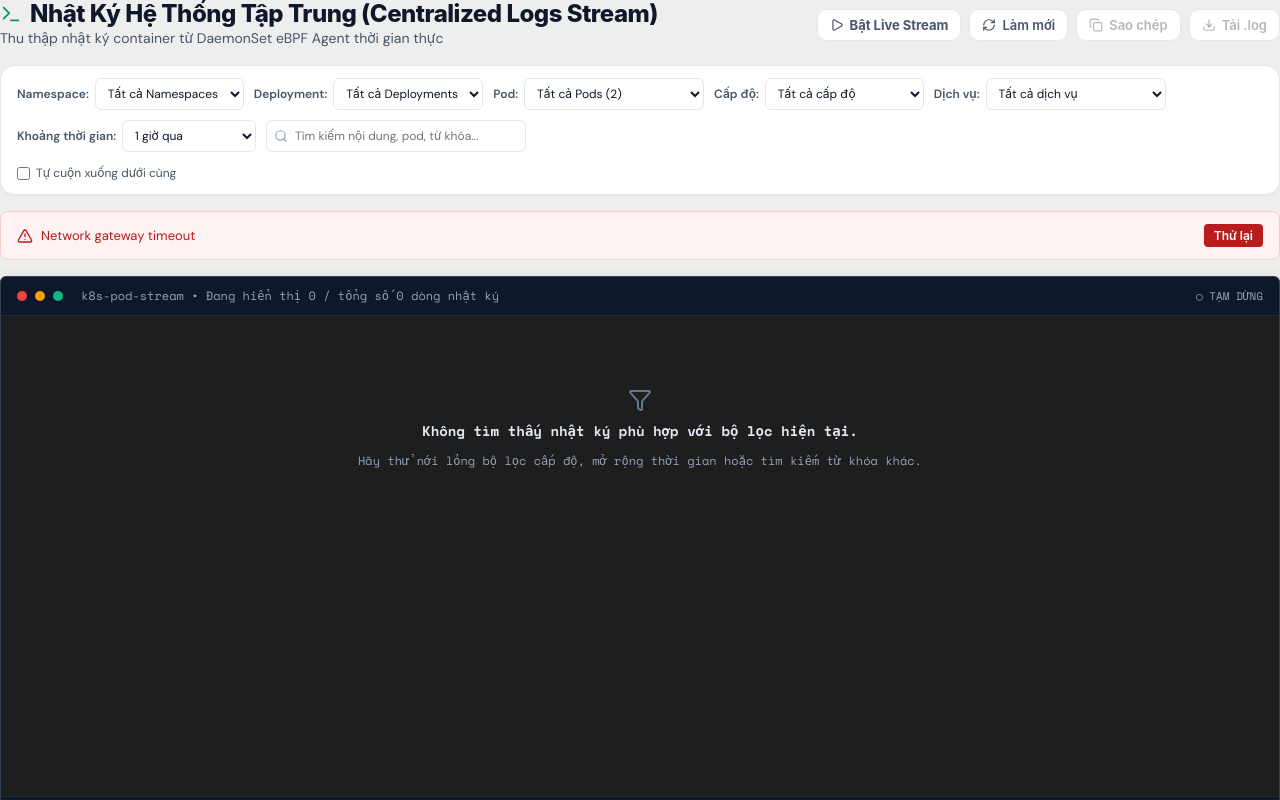
Task [S4][PB17] 3.1 – Centralized Logs Viewer, Filters & Details Suite › 2. LogsPage Rendering & Data Integration › 2.5. Displays error banner with retry button on API failure
Expected: the element with test id "logs-error-banner" is shown, top-left (0, 211), bottom-right (1279, 260)
Expected: the text "Network gateway timeout" is shown, top-left (41, 226), bottom-right (195, 246)
Step 1. Click the button with test id "logs-error-retry-btn" → coordinates (1233, 236), box top-left (1204, 224), bottom-right (1263, 247)
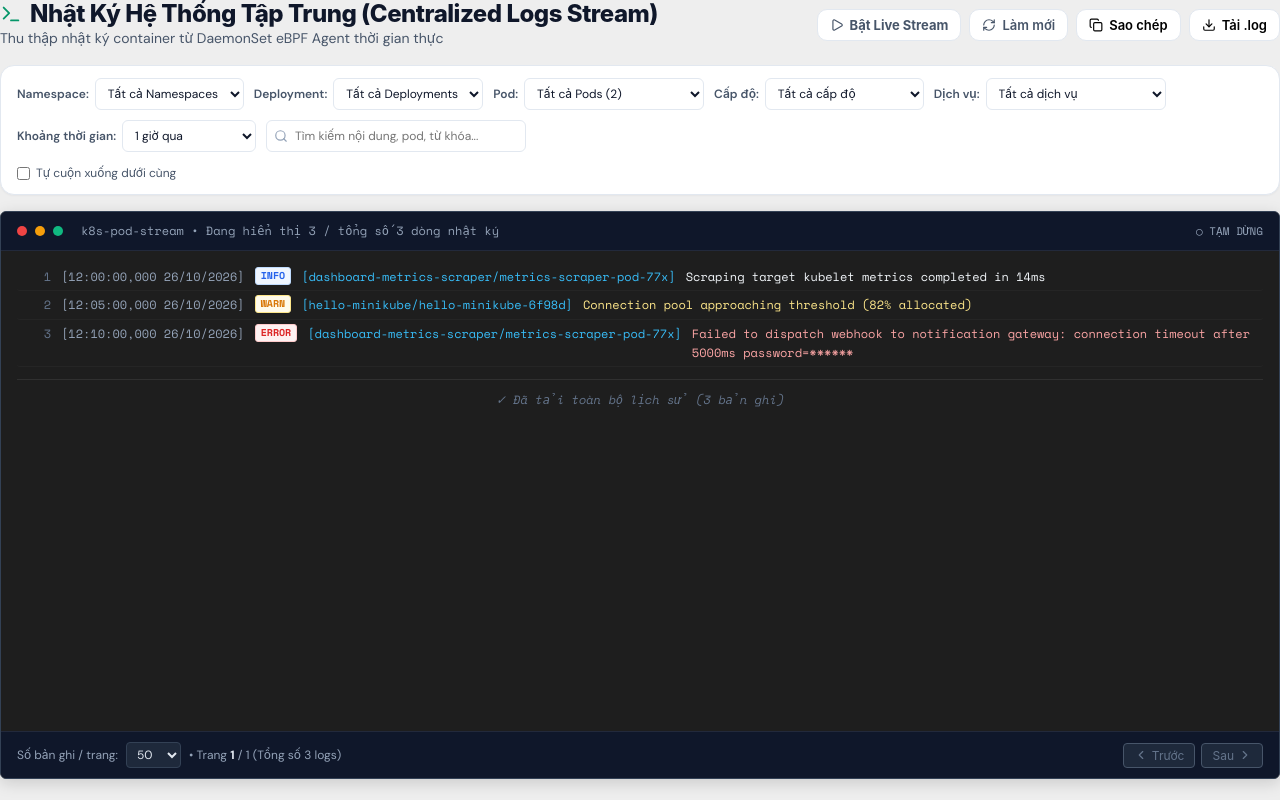
Result: the text "Scraping target kubelet metrics completed in 14ms" is shown at top-left (686, 268), bottom-right (1046, 285)
